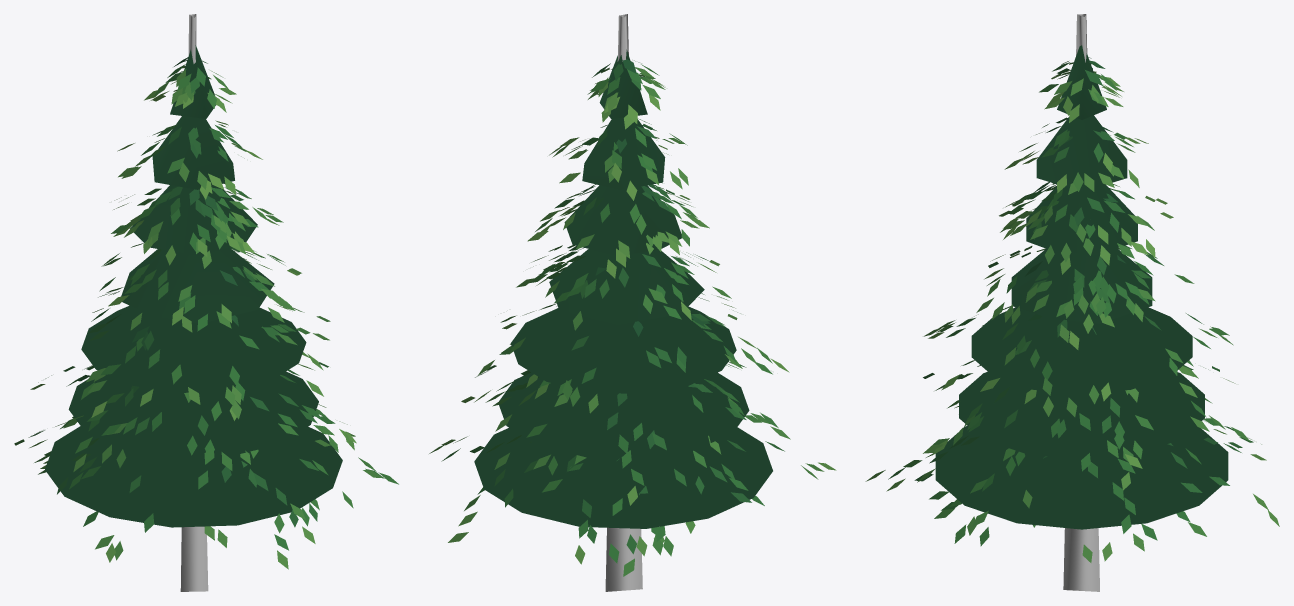
File: t_pine0.fbx
3 renders of one model, left to right at view 1: azimuth 30°, elevation 25°; view 2: azimuth 150°, elevation 25°; view 3: azimuth 270°, elevation 25°, orthographic.
Parts seen in each view (by area): view 1: model; view 2: model; view 3: model.
Boxes of the visible parts, x1,y1,x2,y2 form: model: [14, 14, 398, 591]; model: [429, 14, 836, 591]; model: [865, 14, 1279, 591].
Size of the model in its own units: 0.6905 by 1.18 by 0.7752.
